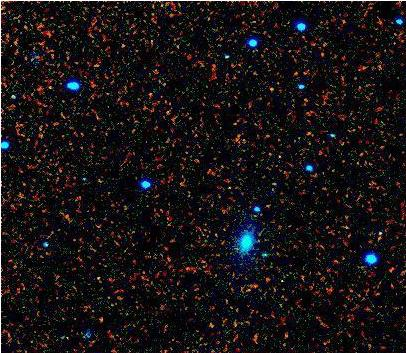star: (256, 74, 286, 104)
